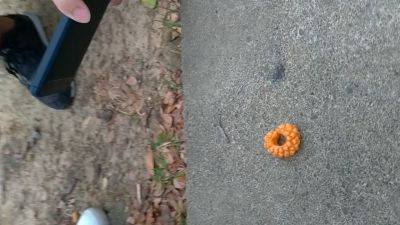eggs: (262, 122, 302, 159)
